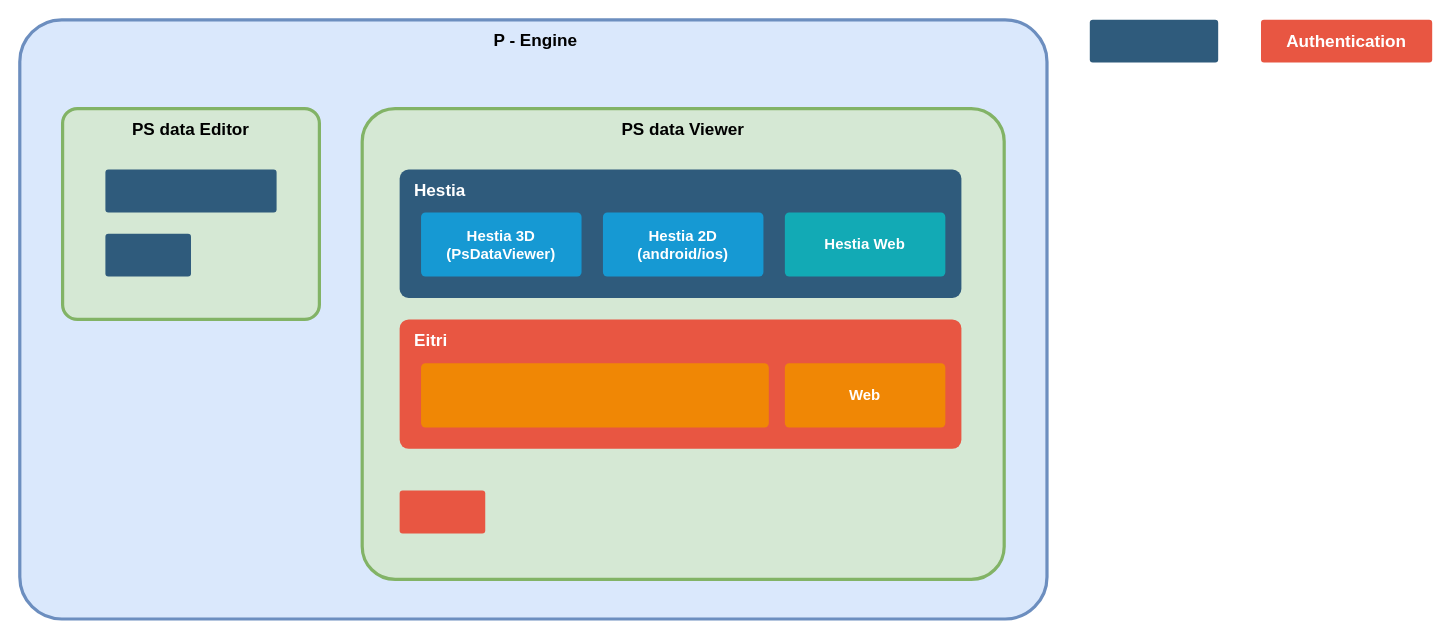
This 1451x639 diagram has some shape labels left out. Each missing label, with the centre of its shape:
ASM: [147,254]
Homepage: [1153,40]
IMT: [442,511]
Mobile: [594,395]
PsDataEditor: [190,190]
